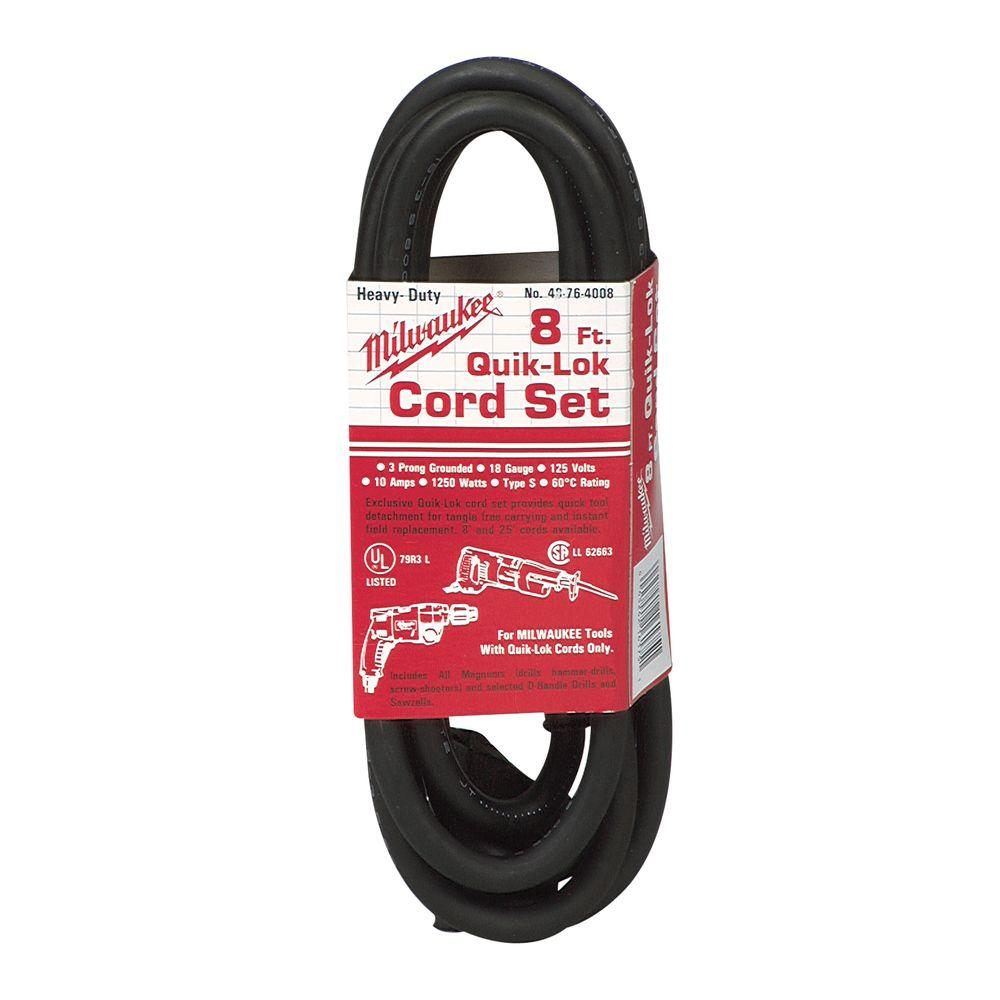Nonrec_Tangler: (289, 9, 734, 951)
